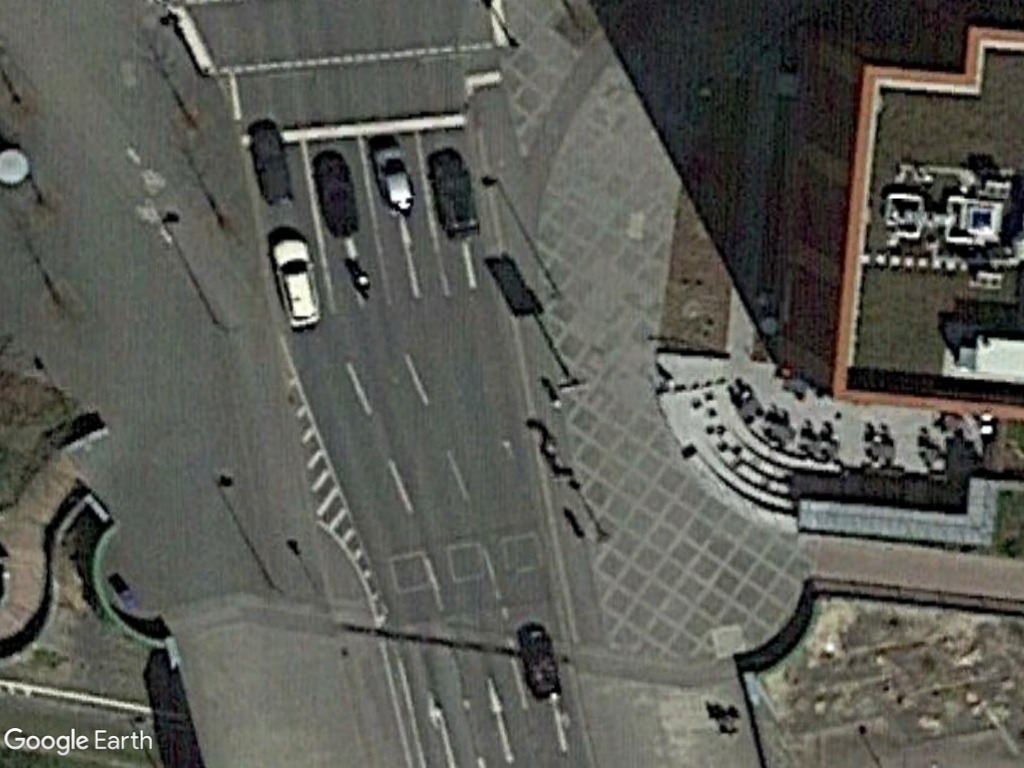car: (265, 233, 325, 334), (370, 140, 418, 217)
